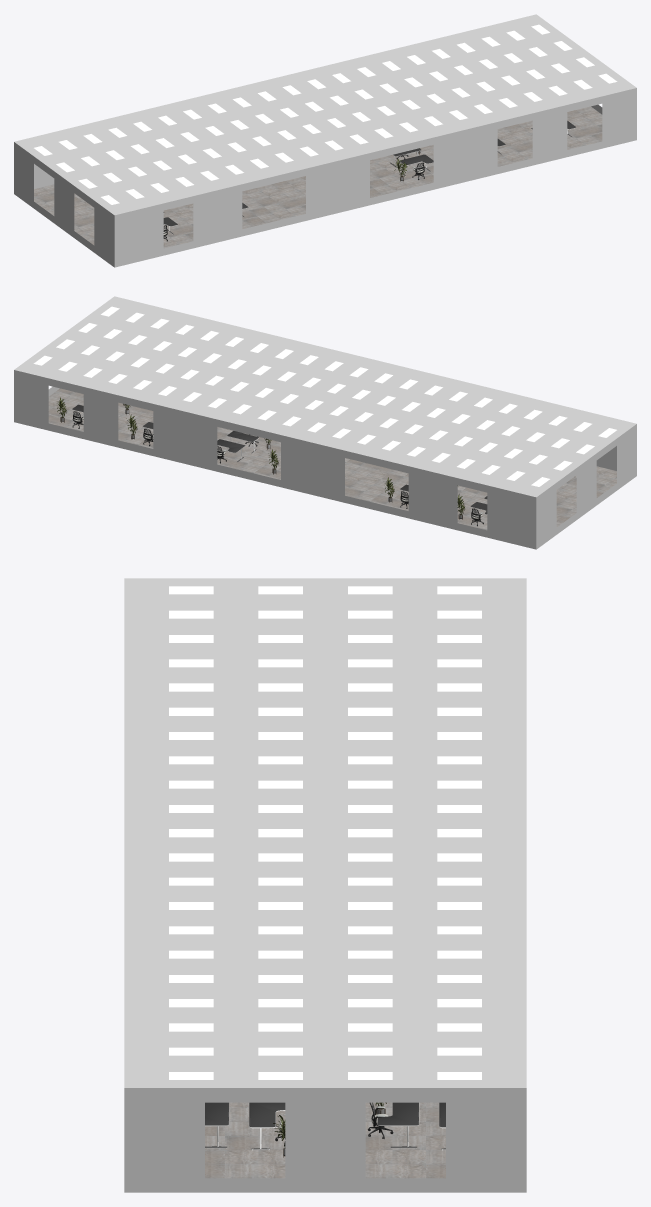
The model's file is reflections.glb.
3 views of the same model, one above another, from view 1: azimuth 30°, elevation 25°; view 2: azimuth 150°, elevation 25°; view 3: azimuth 270°, elevation 25° (orthographic). The views are drawn at different scales.
Parts seen in each view (by area): view 1: Plane.001, Plane.002, Plane.006, Plane.004, Plane.003, Plane.005, Plane; view 2: Plane.001, Plane.002, Plane.006, Plane.004, Plane.003, Plane.005, Plane; view 3: Plane.004, Plane.006, Plane.002, Plane.001, Plane, AH_desk2_160w_80_110d_70_120h_blk.003, AH_desk2_160w_80_110d_70_120h_blk.006.
Boxes of the visible parts, bbox=[...] form: Plane.001: bbox=[14, 88, 636, 267]; Plane.002: bbox=[362, 14, 636, 130]; Plane.006: bbox=[14, 99, 288, 215]; Plane.004: bbox=[188, 57, 462, 172]; Plane.003: bbox=[243, 152, 433, 219]; Plane.005: bbox=[34, 184, 280, 248]; Plane: bbox=[420, 106, 602, 166]; Plane.001: bbox=[14, 370, 636, 549]; Plane.002: bbox=[14, 296, 288, 412]; Plane.006: bbox=[362, 381, 636, 497]; Plane.004: bbox=[188, 339, 462, 454]; Plane.003: bbox=[217, 433, 407, 501]; Plane.005: bbox=[370, 466, 616, 530]; Plane: bbox=[48, 388, 233, 448]; Plane.004: bbox=[124, 748, 526, 918]; Plane.006: bbox=[124, 578, 526, 748]; Plane.002: bbox=[124, 918, 526, 1087]; Plane.001: bbox=[124, 1088, 526, 1192]; Plane: bbox=[205, 1102, 445, 1178]; AH_desk2_160w_80_110d_70_120h_blk.003: bbox=[377, 1102, 419, 1148]; AH_desk2_160w_80_110d_70_120h_blk.006: bbox=[249, 1102, 285, 1150].
Size of the model in its own units: 31.81 by 3.04 by 10.6.
8 materials, 6 textured.
